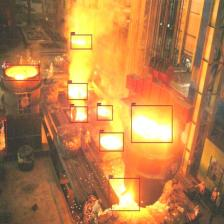fire: (131, 105, 172, 143), (108, 178, 140, 211), (4, 64, 40, 81), (99, 133, 124, 151), (68, 83, 88, 100), (70, 106, 88, 123), (71, 35, 92, 49), (96, 105, 113, 120), (0, 118, 7, 154)
